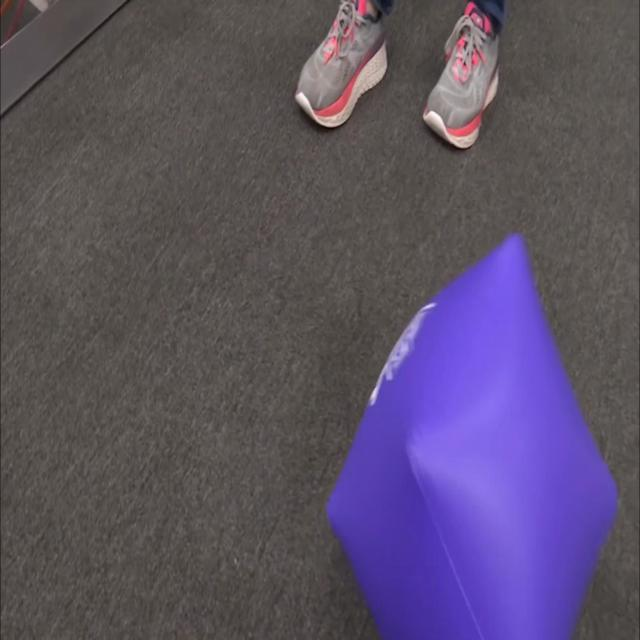frc_cube: (318, 239, 620, 640)
